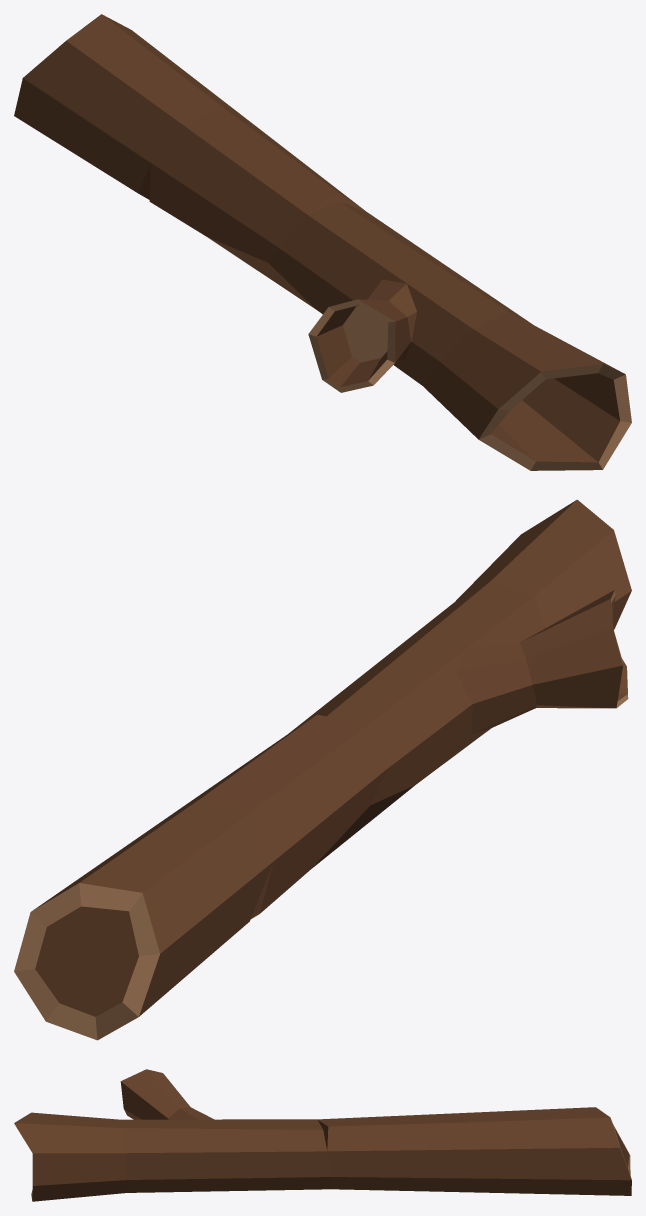
Rendered from Trunk Wood_2.fbx.
The picture shows the model from 3 angles, top to bottom: view 1: azimuth 30°, elevation 25°; view 2: azimuth 150°, elevation 25°; view 3: azimuth 270°, elevation 25°; orthographic projection. The views are drawn at different scales.
Visible parts, largest first — view 1: M_Trunk Wood 2; view 2: M_Trunk Wood 2; view 3: M_Trunk Wood 2.
Part boxes in pixels (x1,y1,x2,y2): M_Trunk Wood 2: (14,14,631,470); M_Trunk Wood 2: (14,499,631,1040); M_Trunk Wood 2: (14,1069,631,1201).
Bounding box in the file's own units: 25.67 × 16.92 × 105.
1 material, 1 textured.
